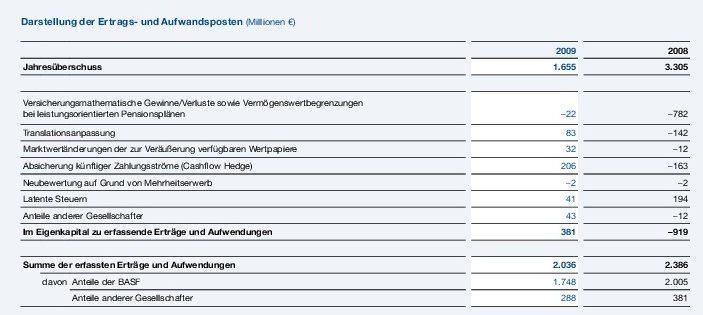table: (0, 0, 703, 315)
